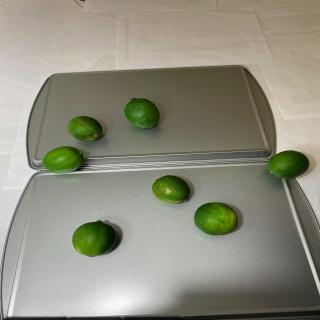Lemon: (72, 220, 117, 257), (194, 202, 238, 235), (42, 146, 84, 174), (124, 98, 160, 128), (152, 175, 190, 203), (68, 115, 102, 142)
